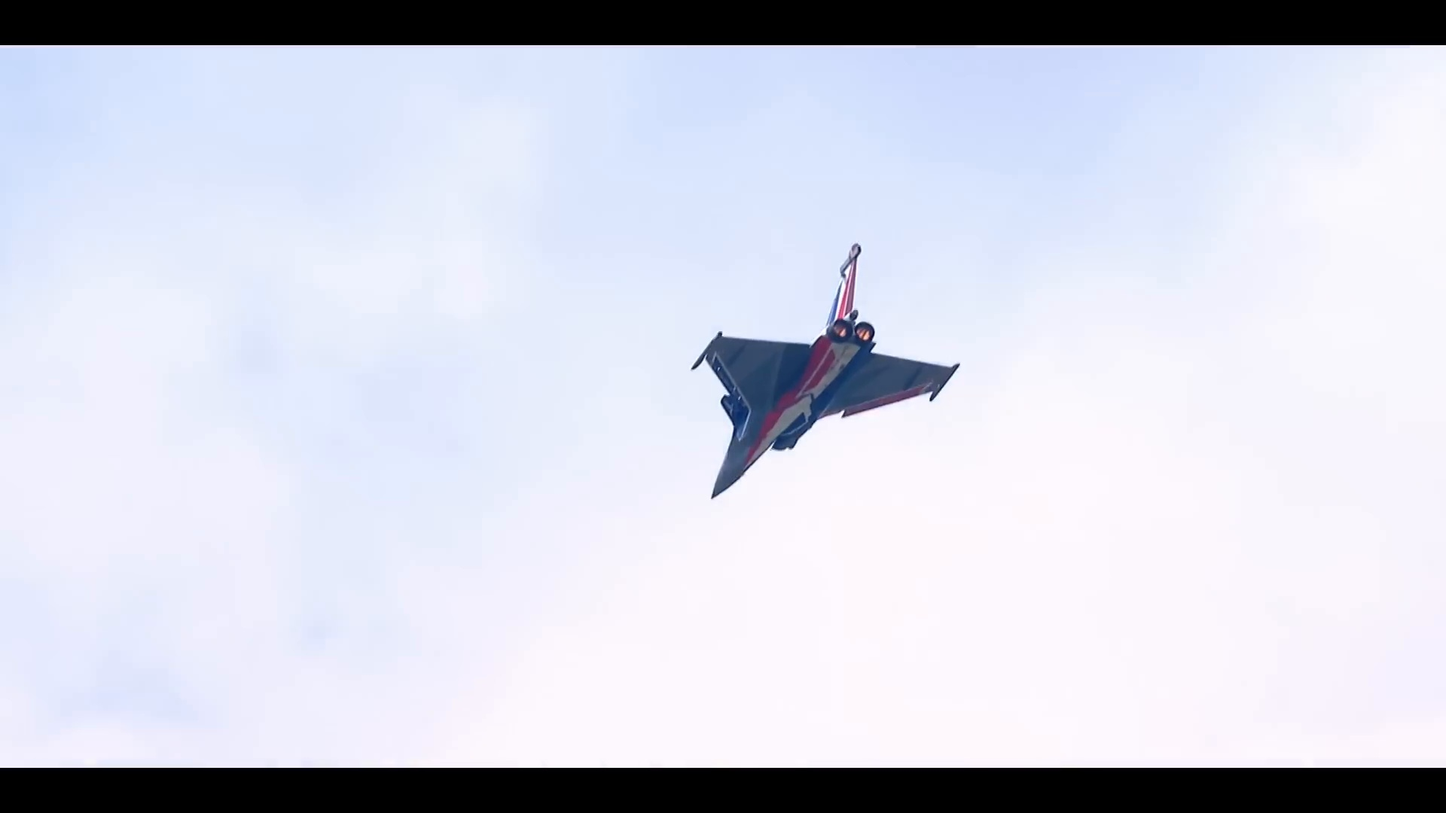Rafale: (686, 238, 967, 516)
